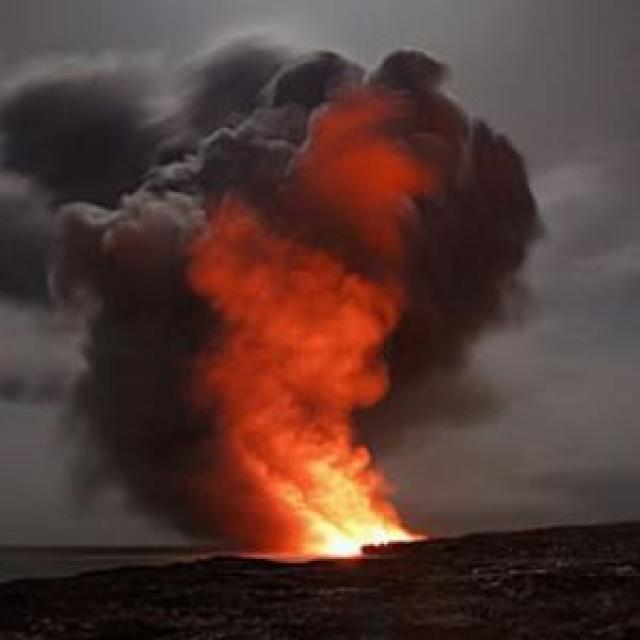Fire: (298, 511, 424, 569)
Smoke: (0, 36, 545, 491)
